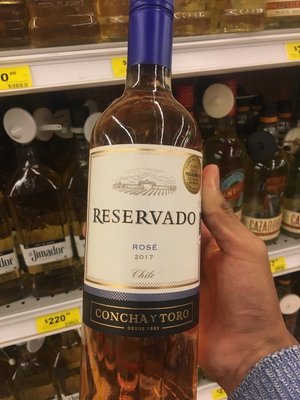reservado rose: (84, 10, 206, 389)
